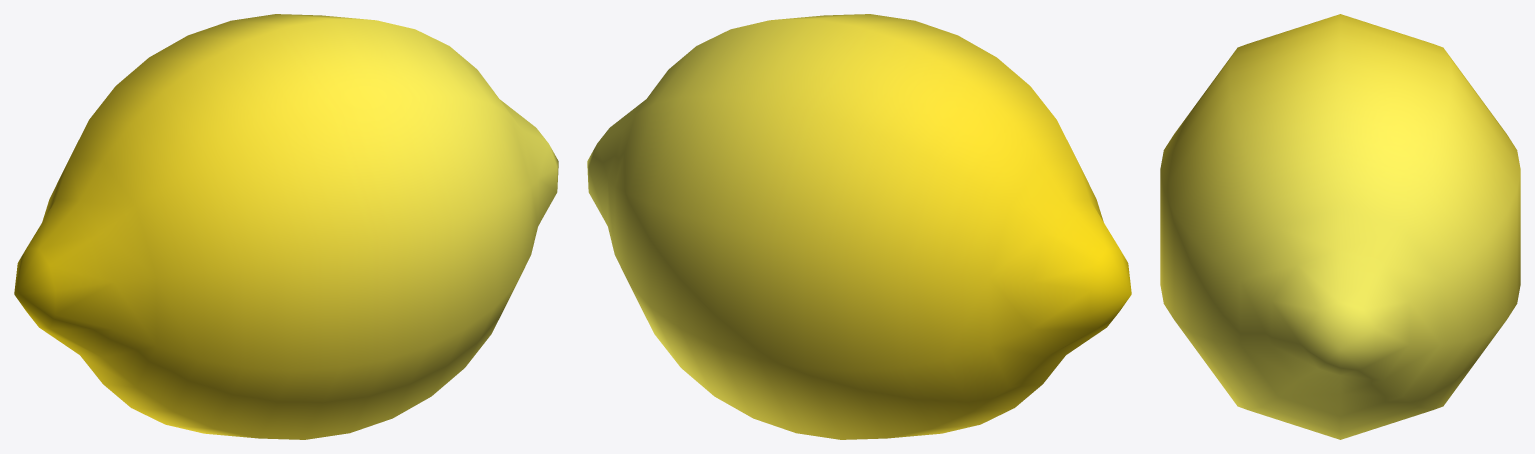
Rendered from lemon.fbx.
3 renders of one model, left to right at view 1: azimuth 30°, elevation 25°; view 2: azimuth 150°, elevation 25°; view 3: azimuth 270°, elevation 25°, orthographic. The views are drawn at different scales.
Visible parts, largest first — view 1: lemon; view 2: lemon; view 3: lemon.
Part boxes in pixels (left/top/right/bottom): lemon: left=14, top=14, right=558, bottom=439; lemon: left=587, top=14, right=1131, bottom=439; lemon: left=1160, top=14, right=1520, bottom=439.
Bounding box in the file's own units: 118 × 83.57 × 72.71.
